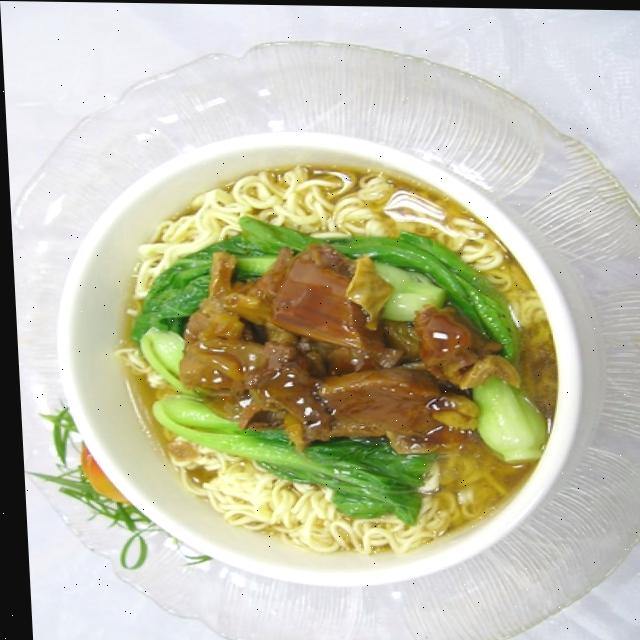面条主食: (46, 123, 601, 609)
